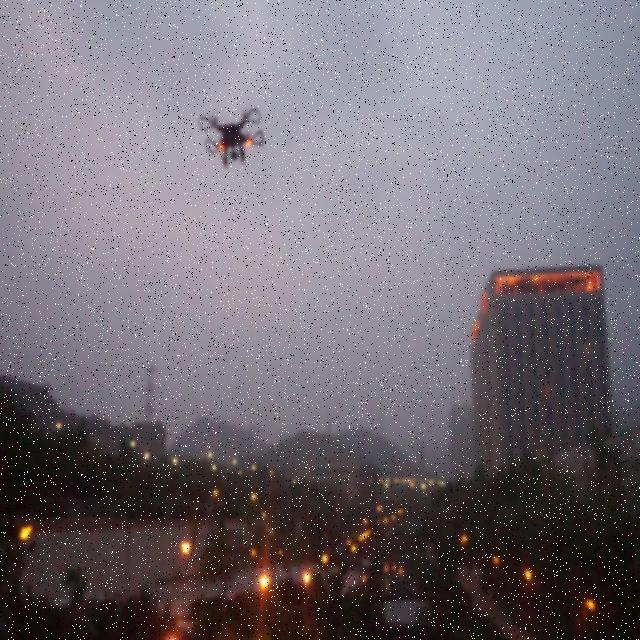UAV: (198, 108, 264, 170)
